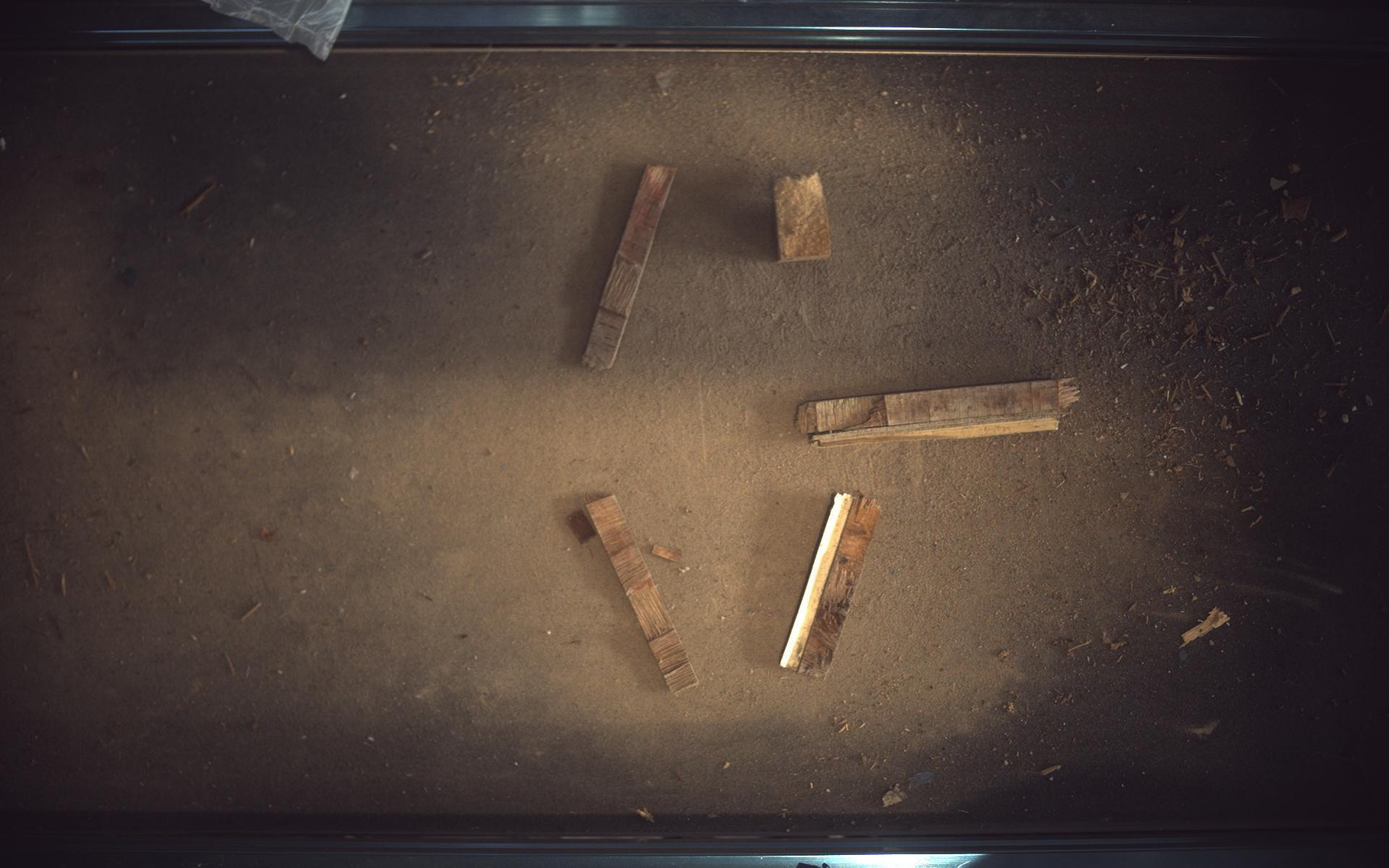wood: (585, 495, 699, 695), (582, 163, 677, 370), (798, 378, 1081, 446), (781, 493, 882, 678), (776, 171, 832, 261)
